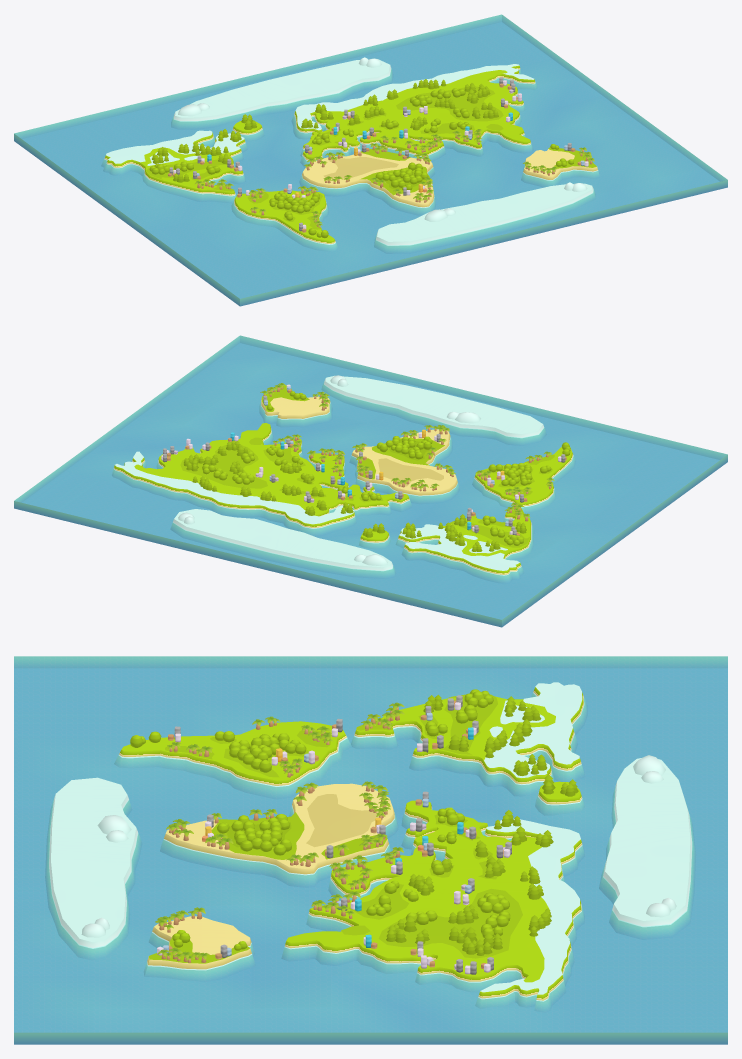
File: cartoon_world_map.glb
3 renders of one model, top to bottom at view 1: azimuth 30°, elevation 25°; view 2: azimuth 150°, elevation 25°; view 3: azimuth 270°, elevation 25°, orthographic. The views are drawn at different scales.
Visible parts, largest first — view 1: Water, Down, Eurasia, South, North, Plane_snow, America_1, Africa, Plane_forest, America_2, Australia, Plane_green (+1 smaller); view 2: Water, Down, Eurasia, North, South, Plane_snow, America_1, Plane_forest, Africa, America_2, Australia, Plane_green (+1 smaller); view 3: Water, Down, Eurasia, South, North, Plane_snow, America_1, Africa, America_2, Plane_forest, Australia, Plane_desert (+2 smaller).
Part boxes in pixels (left/top/right/bottom): Water: left=14, top=15, right=726, bottom=298; Down: left=14, top=14, right=727, bottom=306; Eurasia: left=291, top=65, right=537, bottom=167; South: left=374, top=183, right=595, bottom=253; North: left=171, top=59, right=393, bottom=129; Plane_snow: left=106, top=64, right=533, bottom=165; America_1: left=101, top=132, right=247, bottom=203; Africa: left=299, top=153, right=436, bottom=215; Plane_forest: left=146, top=86, right=503, bottom=229; America_2: left=231, top=190, right=338, bottom=251; Australia: left=521, top=149, right=599, bottom=187; Plane_green: left=360, top=147, right=596, bottom=195; Water: left=15, top=336, right=727, bottom=619; Down: left=14, top=335, right=727, bottom=627; Eurasia: left=112, top=423, right=412, bottom=536; North: left=170, top=509, right=396, bottom=579; South: left=321, top=375, right=546, bottom=445; Plane_snow: left=115, top=451, right=519, bottom=570; America_1: left=395, top=514, right=534, bottom=583; Plane_forest: left=180, top=437, right=554, bottom=547; Africa: left=349, top=429, right=459, bottom=504; America_2: left=472, top=447, right=575, bottom=513; Australia: left=259, top=396, right=332, bottom=427; Plane_green: left=262, top=385, right=444, bottom=479; Water: left=14, top=656, right=727, bottom=1032; Down: left=14, top=656, right=727, bottom=1044; Eurasia: left=281, top=800, right=584, bottom=1012; South: left=45, top=777, right=142, bottom=960; North: left=599, top=758, right=696, bottom=939; Plane_snow: left=480, top=682, right=582, bottom=994; America_1: left=351, top=687, right=587, bottom=796; Africa: left=160, top=783, right=398, bottom=887; America_2: left=114, top=721, right=351, bottom=799; Plane_forest: left=165, top=694, right=522, bottom=958; Australia: left=143, top=916, right=255, bottom=981; Plane_desert: left=306, top=794, right=387, bottom=847.
Bounding box in the file's own units: 8.77 × 0.3805 × 7.04.
2 materials, 2 textured.
